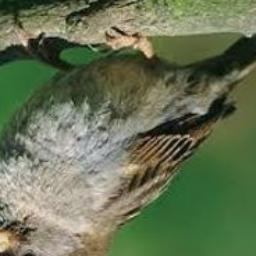Sparrow: (0, 21, 256, 256)
